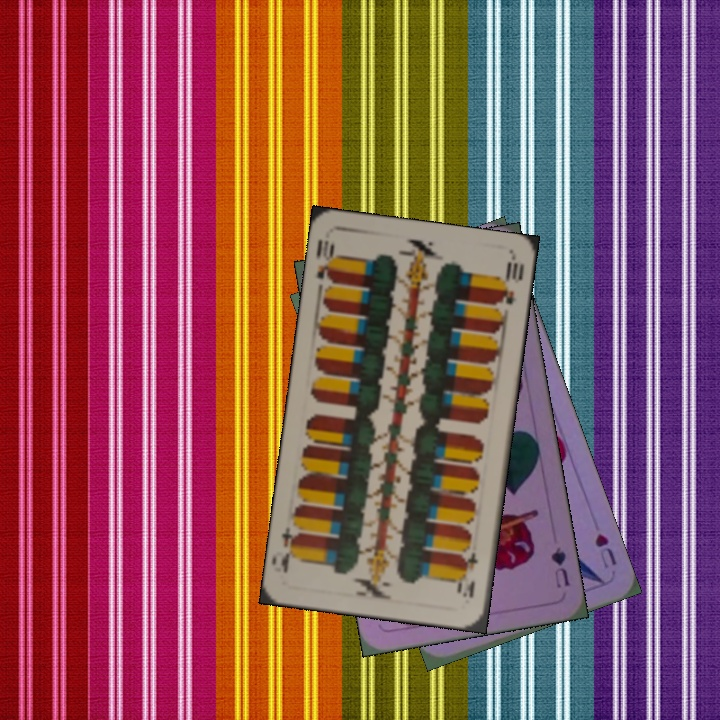E10: (312, 236, 338, 292), (455, 548, 481, 601)
GU: (547, 543, 572, 590)
HU: (590, 529, 619, 571)
